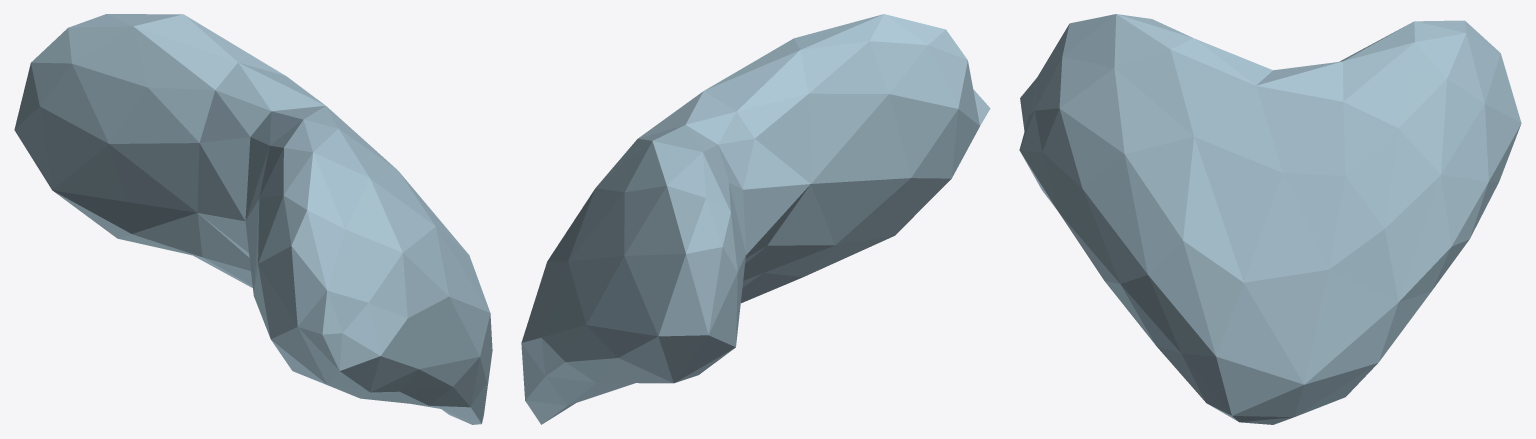
3 views of the same model, side by side, from view 1: azimuth 30°, elevation 25°; view 2: azimuth 150°, elevation 25°; view 3: azimuth 270°, elevation 25° (orthographic). The views are drawn at different scales.
Parts seen in each view (by area): view 1: 333.obj; view 2: 333.obj; view 3: 333.obj.
Boxes of the visible parts, x1,y1,x2,y2 form: 333.obj: [14, 14, 492, 424]; 333.obj: [521, 14, 990, 424]; 333.obj: [1019, 14, 1521, 424].
Bounding box in the file's own units: 328 × 389 × 556.
